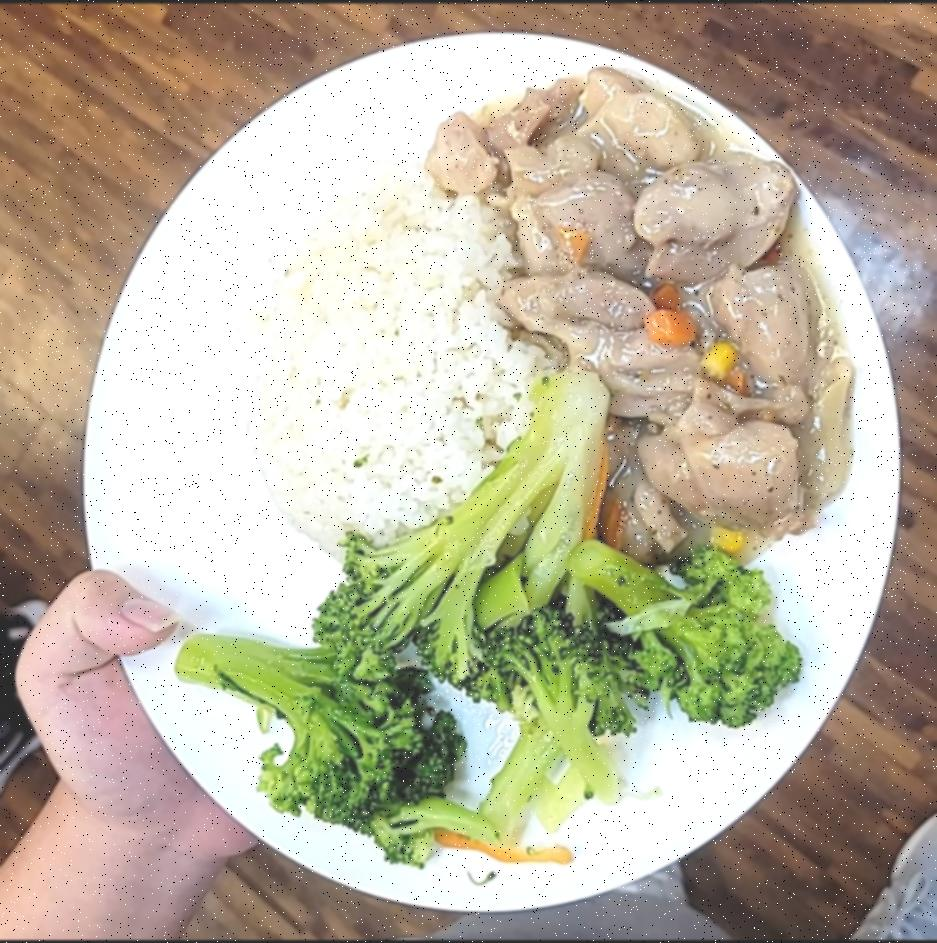big fried chicken leg: (63, 26, 914, 898)
big herbal chicken leg: (247, 154, 535, 556)
braised fish fillet: (164, 380, 786, 866)
braised pork: (425, 75, 858, 542)
